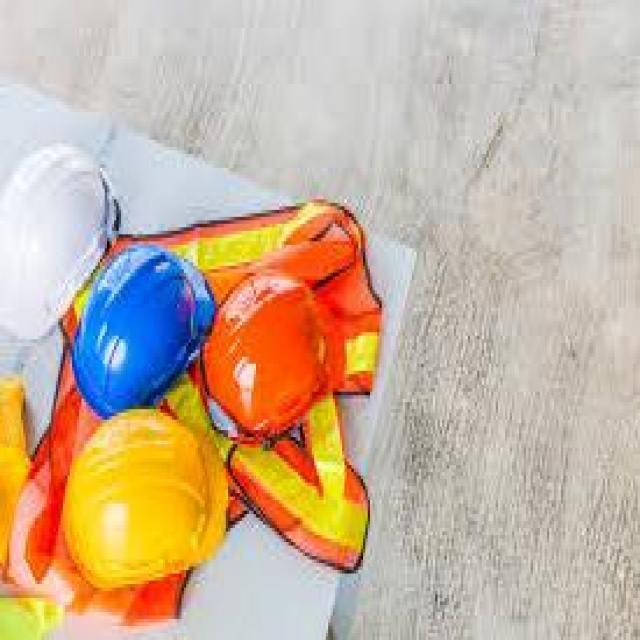reflective_jacket: (90, 185, 386, 426), (197, 248, 361, 524), (200, 269, 325, 426)
safety_helmet: (48, 405, 237, 598), (69, 241, 214, 419)
